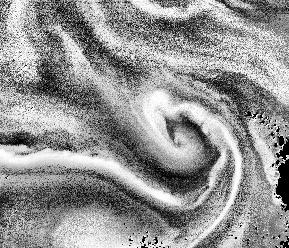CE: (135, 85, 243, 173)
